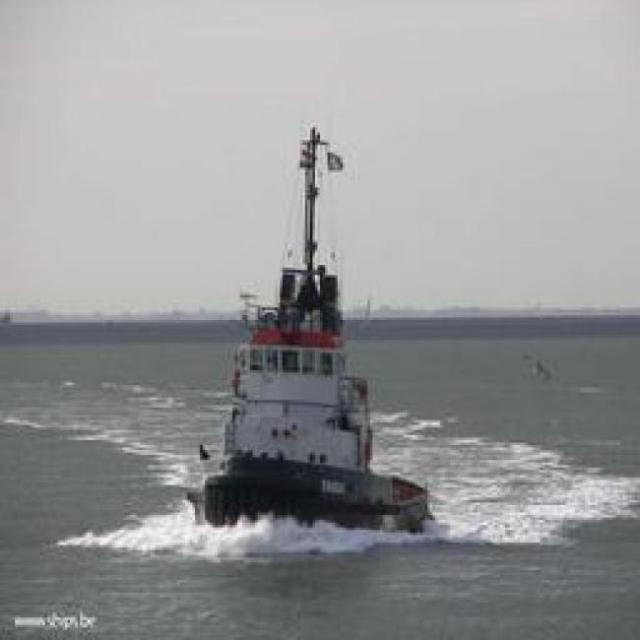boat: (132, 234, 438, 540)
